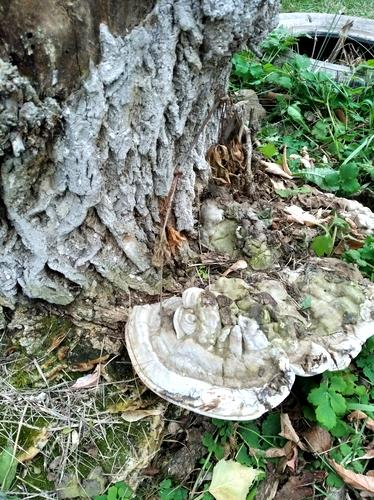Ganoderma - Fruit Body: (129, 258, 374, 424)
